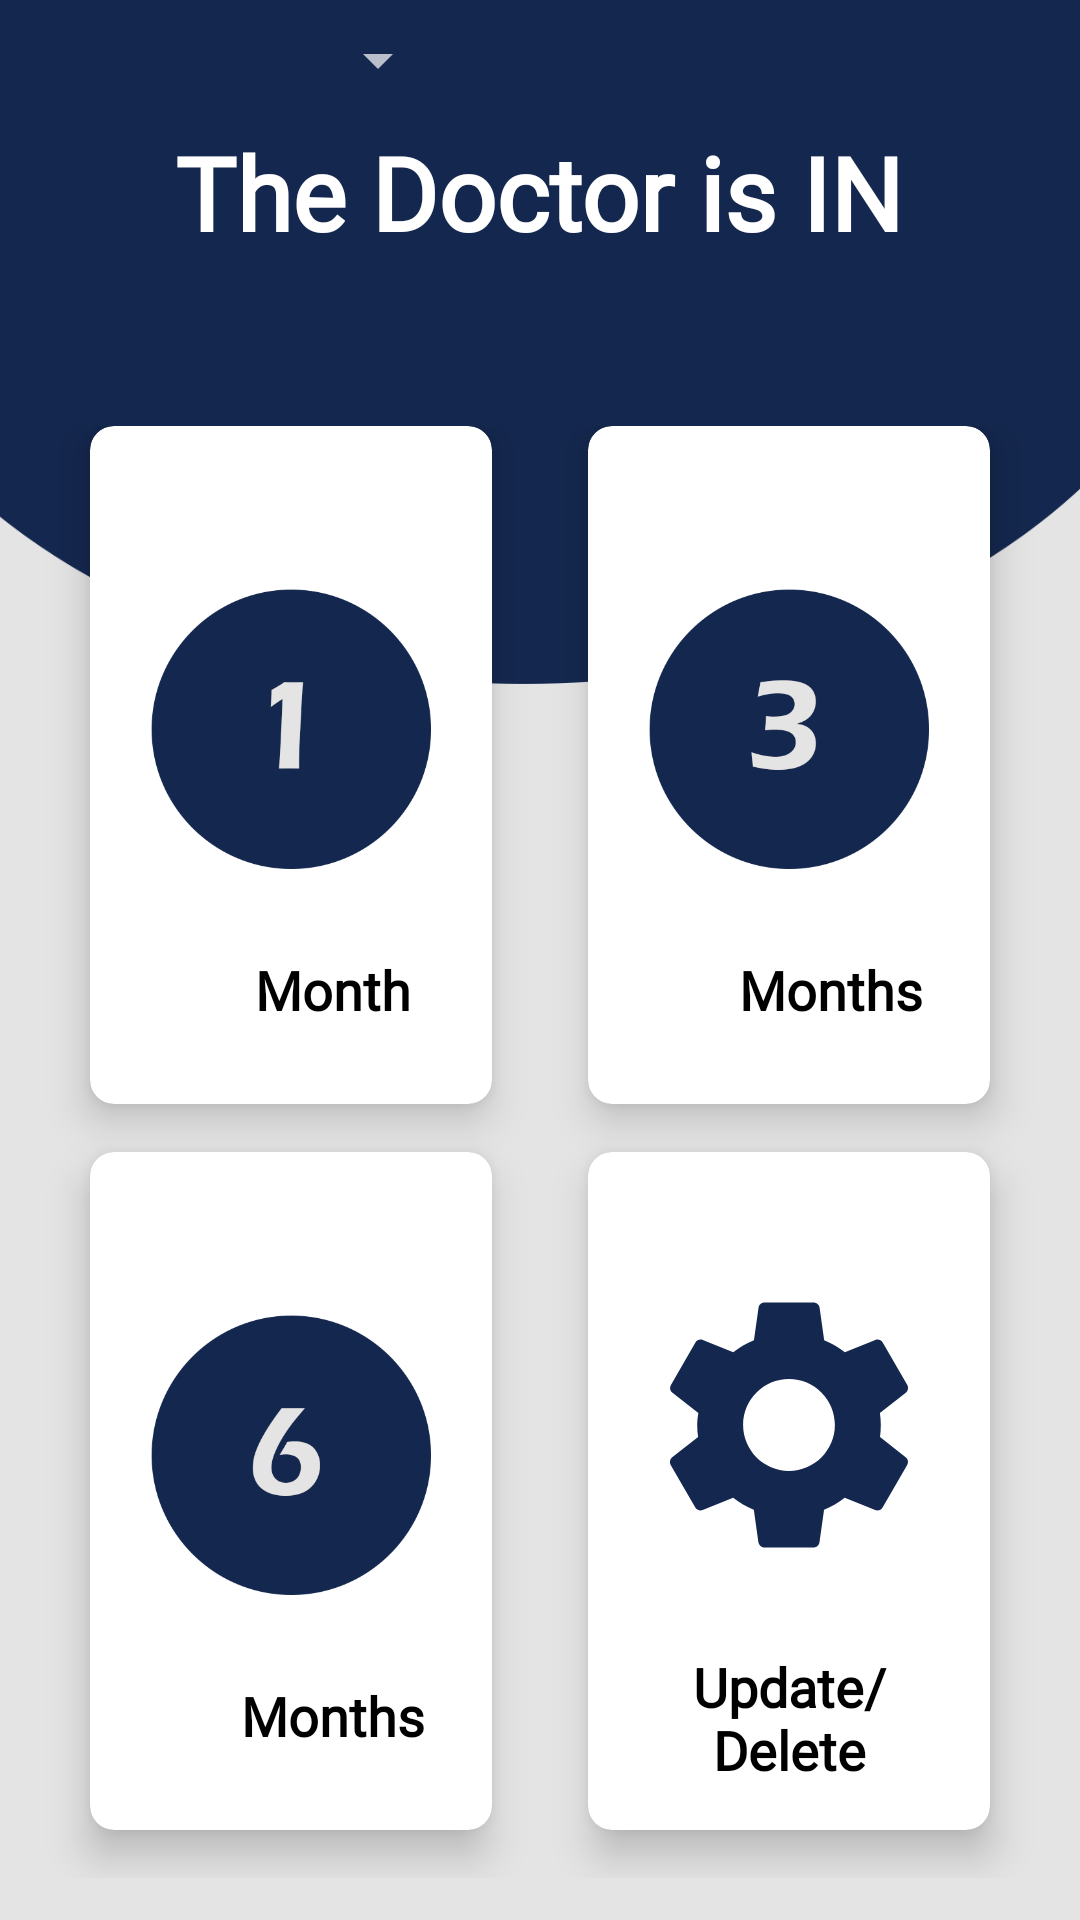

Where icons sit on this 1080*1920 app screen, as [x1=x1, y1=y1, x2=x2, y2=y2]:
setting: [x1=670, y1=1302, x2=908, y2=1548]
